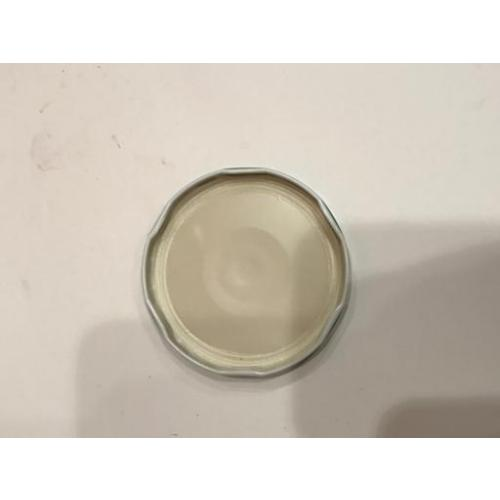metal: (146, 169, 352, 378)
